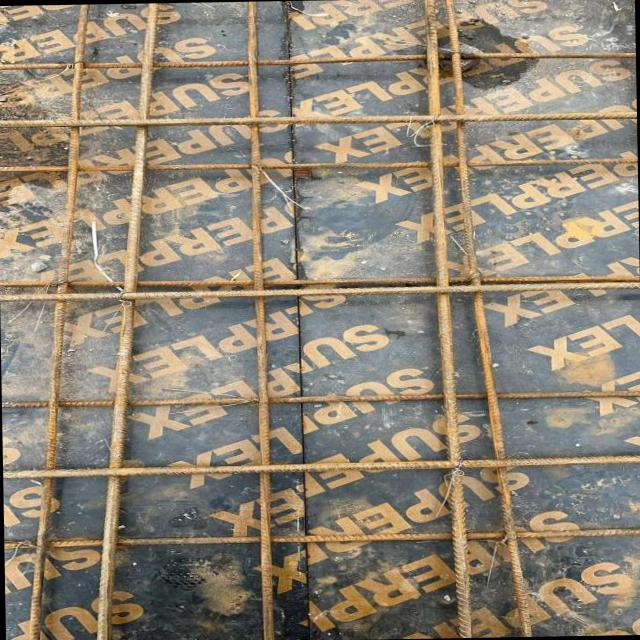ribbed bar: (438, 0, 536, 636), (79, 3, 169, 640), (12, 4, 99, 640), (419, 0, 474, 637), (243, 1, 274, 640), (2, 454, 640, 478), (0, 279, 638, 301), (0, 270, 638, 292), (4, 526, 640, 548), (0, 108, 635, 129), (0, 49, 634, 70), (1, 389, 640, 407), (0, 155, 636, 173)
